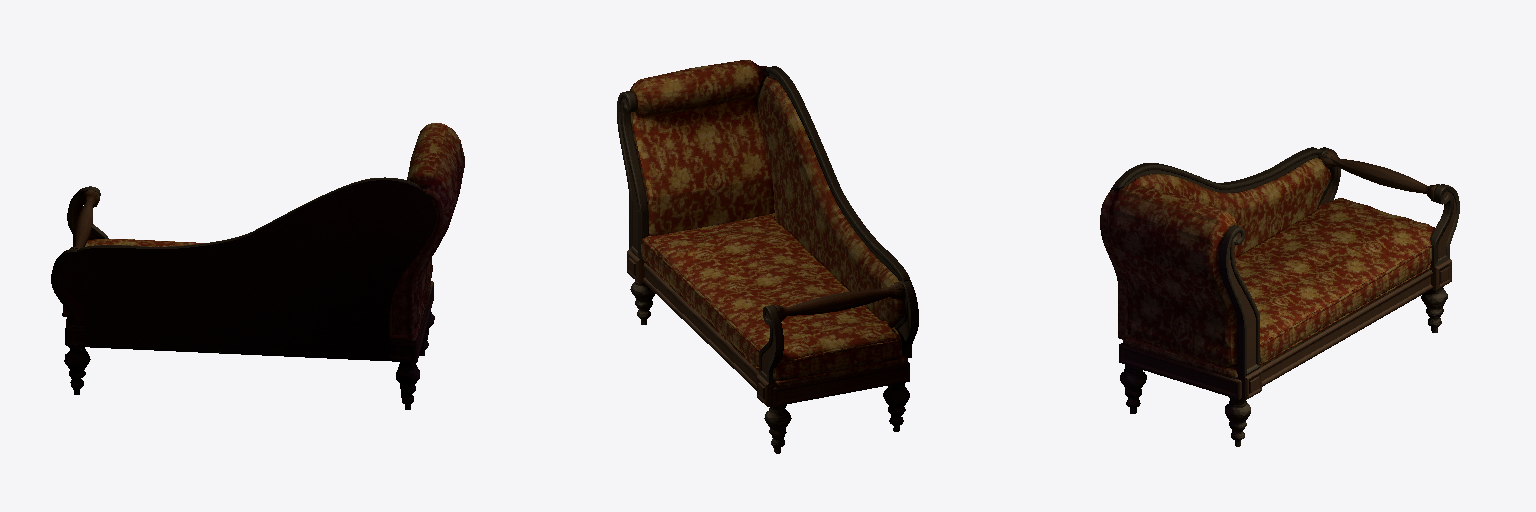
3 views of the same model, side by side, from view 1: azimuth 30°, elevation 25°; view 2: azimuth 150°, elevation 25°; view 3: azimuth 270°, elevation 25° (orthographic).
Visible parts, largest first — view 1: benchBaked BedroomBakedTriExport; view 2: benchBaked BedroomBakedTriExport; view 3: benchBaked BedroomBakedTriExport.
Part boxes in pixels (x1,y1,x2,y2): benchBaked BedroomBakedTriExport: (51,123,464,409); benchBaked BedroomBakedTriExport: (617,60,918,453); benchBaked BedroomBakedTriExport: (1100,147,1459,446).
Bounding box in the file's own units: 1.95 × 1.25 × 1.71.
1 materials, 1 textured.